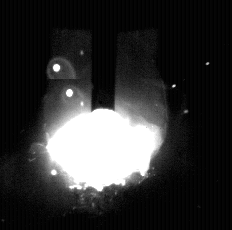arame: (92, 0, 116, 112)
poca: (43, 0, 168, 230)
